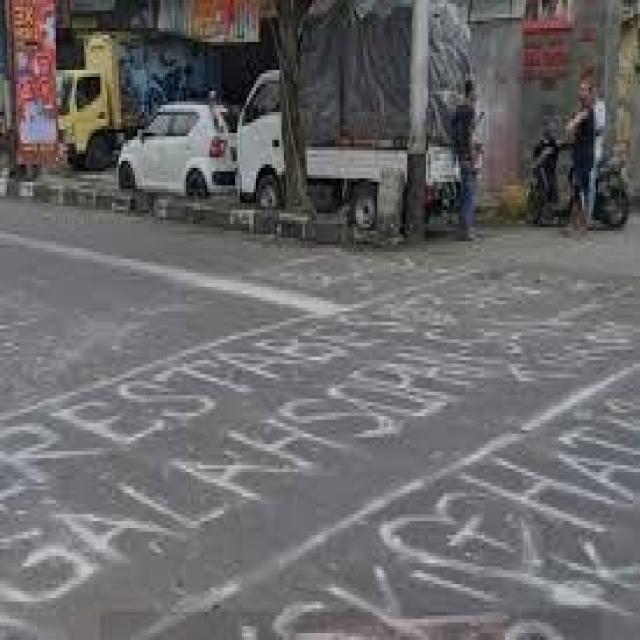nonspitting: (0, 308, 474, 609), (274, 384, 640, 636)
